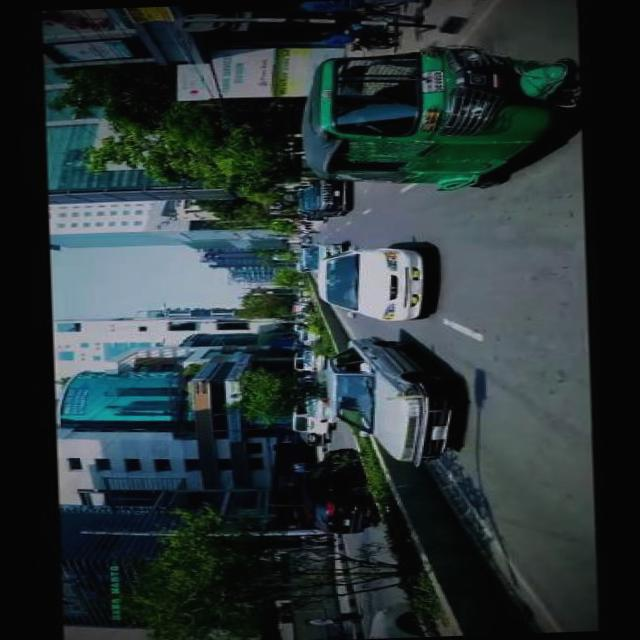car: (320, 336, 449, 468), (312, 246, 424, 326), (301, 448, 364, 536), (294, 177, 346, 219), (295, 244, 339, 272), (302, 342, 321, 372), (294, 431, 324, 449), (294, 328, 314, 343)
motorcycle: (296, 43, 578, 200)
truck: (288, 398, 328, 436), (288, 352, 307, 372)
